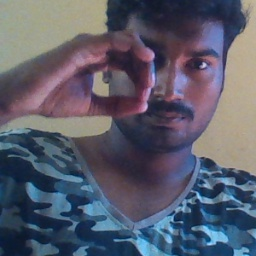O: (23, 29, 158, 126)
